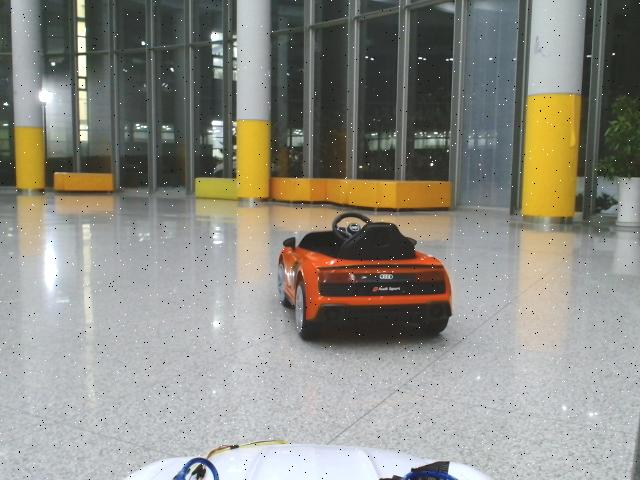car: (277, 212, 453, 339)
